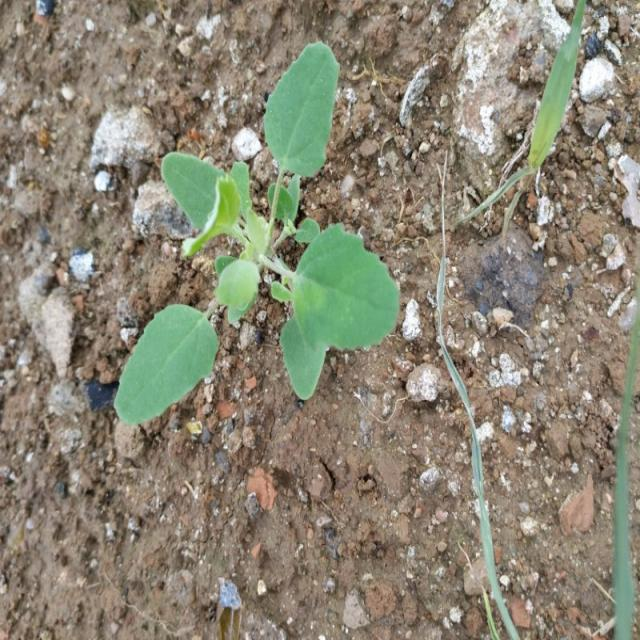ca: (119, 46, 403, 400)
